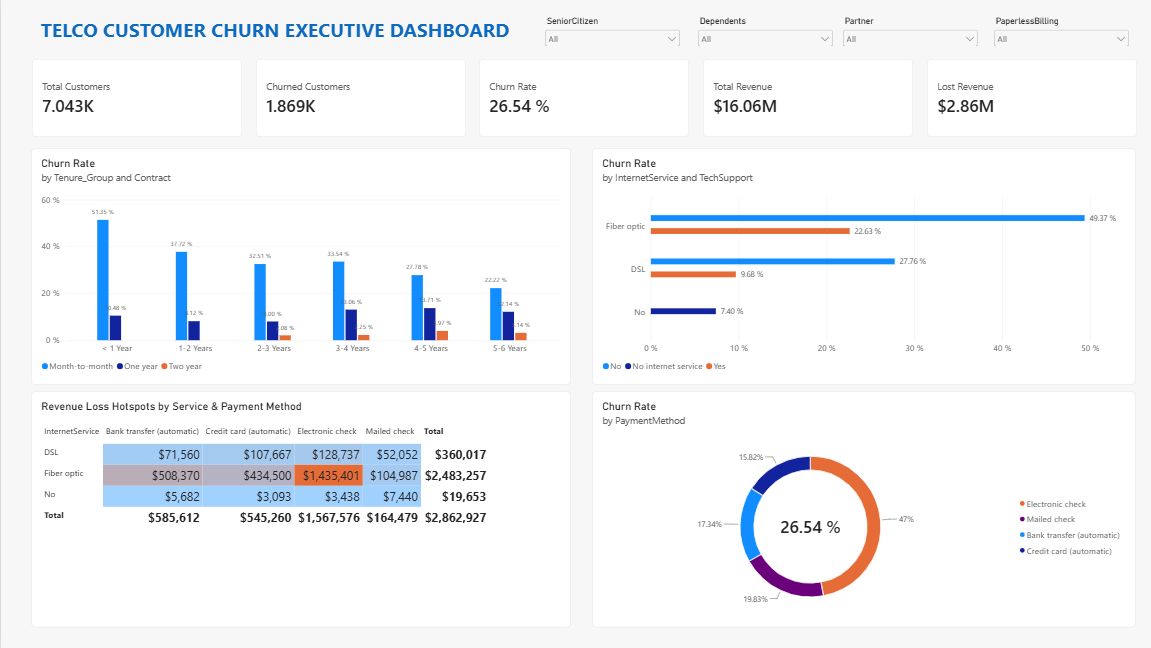

This screenshot's page, from the dashboard's own definition file:
{"tool":"powerbi","page":{"name":"Page 1","canvas":[1920,1080],"ordinal":0},"visuals":[{"type":"textbox","box":[50,26.7,813.3,71.7],"z":0},{"type":"cardVisual","fields":{"Data":["_Measures.Total Customers"]},"box":[51.7,97.5,350,130],"z":1000},{"type":"cardVisual","fields":{"Data":["_Measures.Churned Customers"]},"box":[424.5,97.5,350,130],"z":2000},{"type":"cardVisual","fields":{"Data":["_Measures.Lost Revenue"]},"box":[1542.8,97.5,350,130],"z":3000},{"type":"cardVisual","fields":{"Data":["_Measures.Total Revenue"]},"box":[1170,97.5,350,130],"z":4000},{"type":"cardVisual","fields":{"Data":["_Measures.Churn Rate"]},"box":[797.2,97.5,350,130],"z":5000},{"type":"slicer","fields":{"Values":["TelcoChurn.SeniorCitizen"]},"box":[902,27.3,235,50],"z":6000},{"type":"slicer","fields":{"Values":["TelcoChurn.Dependents"]},"box":[1156.9,27.3,235,50],"z":7000},{"type":"slicer","fields":{"Values":["TelcoChurn.Partner"]},"box":[1398.6,27.3,235,50],"z":8000},{"type":"slicer","fields":{"Values":["TelcoChurn.PaperlessBilling"]},"box":[1650.5,27.3,235,50],"z":9000},{"type":"clusteredColumnChart","fields":{"Category":["TelcoChurn.Tenure_Group"],"Series":["TelcoChurn.Contract"],"Y":["_Measures.Churn Rate"]},"box":[50,245.9,900.2,395.4],"z":10000},{"type":"clusteredBarChart","fields":{"Category":["TelcoChurn.InternetService"],"Series":["TelcoChurn.TechSupport"],"Y":["_Measures.Churn Rate"]},"box":[985.2,245.9,906,395.4],"z":11000},{"type":"pivotTable","title":"Revenue Loss Hotspots by Service & Payment Method","fields":{"Columns":["TelcoChurn.PaymentMethod"],"Rows":["TelcoChurn.InternetService"],"Values":["_Measures.Lost Revenue"]},"box":[49.3,652,900,394],"z":12000},{"type":"donutChart","fields":{"Category":["TelcoChurn.PaymentMethod"],"Y":["_Measures.Churn Rate"]},"box":[984.8,651.4,906,394],"z":13000}]}

Visuals, with their boxes in screenshot pixels (x1, y1, x2, y2), scaled from the page's 1920x1080 canvas onto the 1151x648 screenshot:
textbox: BBox(30, 16, 518, 59)
cardVisual - _Measures.Total Customers: BBox(31, 58, 241, 136)
cardVisual - _Measures.Churned Customers: BBox(254, 58, 464, 136)
cardVisual - _Measures.Lost Revenue: BBox(925, 58, 1135, 136)
cardVisual - _Measures.Total Revenue: BBox(701, 58, 911, 136)
cardVisual - _Measures.Churn Rate: BBox(478, 58, 688, 136)
slicer - TelcoChurn.SeniorCitizen: BBox(541, 16, 682, 46)
slicer - TelcoChurn.Dependents: BBox(694, 16, 834, 46)
slicer - TelcoChurn.Partner: BBox(838, 16, 979, 46)
slicer - TelcoChurn.PaperlessBilling: BBox(989, 16, 1130, 46)
clusteredColumnChart - TelcoChurn.Tenure_Group x TelcoChurn.Contract: BBox(30, 148, 570, 385)
clusteredBarChart - TelcoChurn.InternetService x TelcoChurn.TechSupport: BBox(591, 148, 1134, 385)
"Revenue Loss Hotspots by Service & Payment Method" pivotTable: BBox(30, 391, 569, 628)
donutChart - TelcoChurn.PaymentMethod x _Measures.Churn Rate: BBox(590, 391, 1133, 627)
